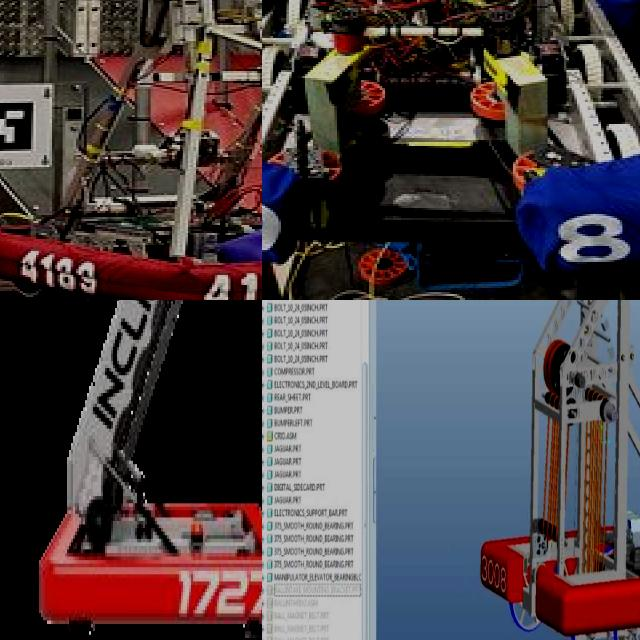FRC-Robots: (262, 0, 640, 279), (23, 300, 262, 640), (0, 0, 262, 300), (452, 300, 640, 640)
